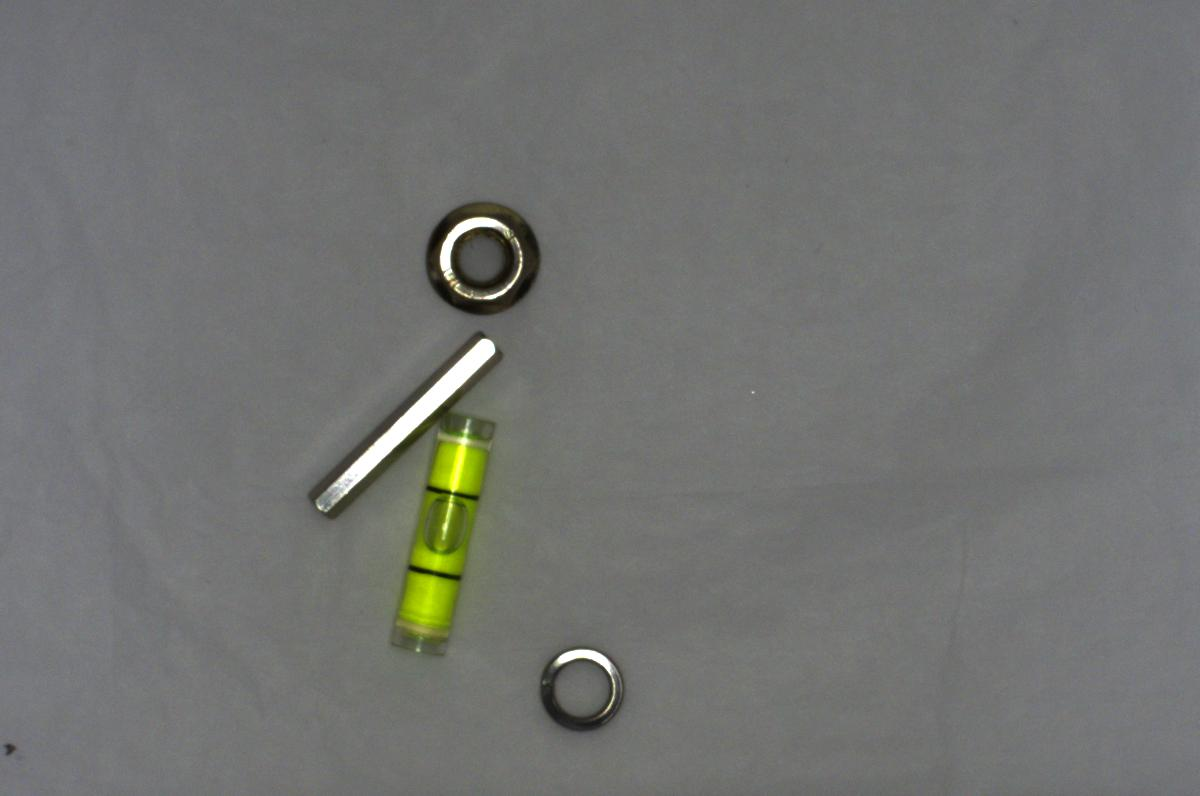Double hexagonal column: (307, 330, 508, 520)
Flange nut: (415, 194, 552, 318)
Horizontal bubble: (378, 409, 506, 662)
Spring washer: (532, 639, 628, 736)
